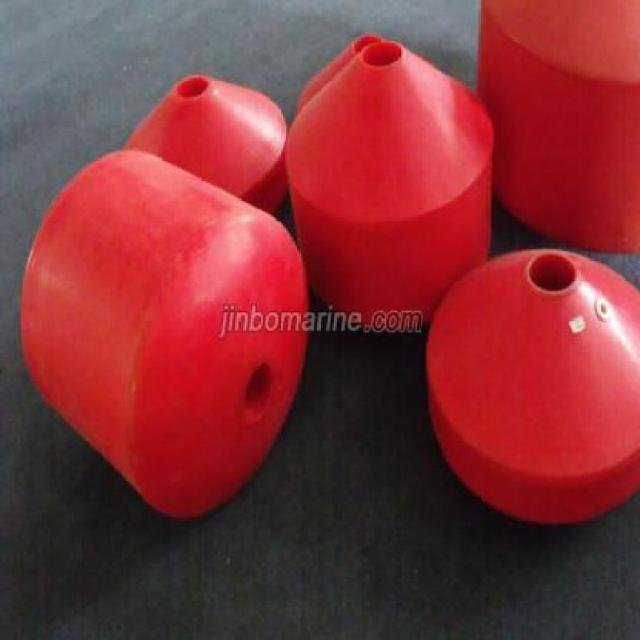a: (7, 136, 318, 518), (277, 34, 511, 326), (421, 242, 639, 538), (107, 68, 306, 225)
